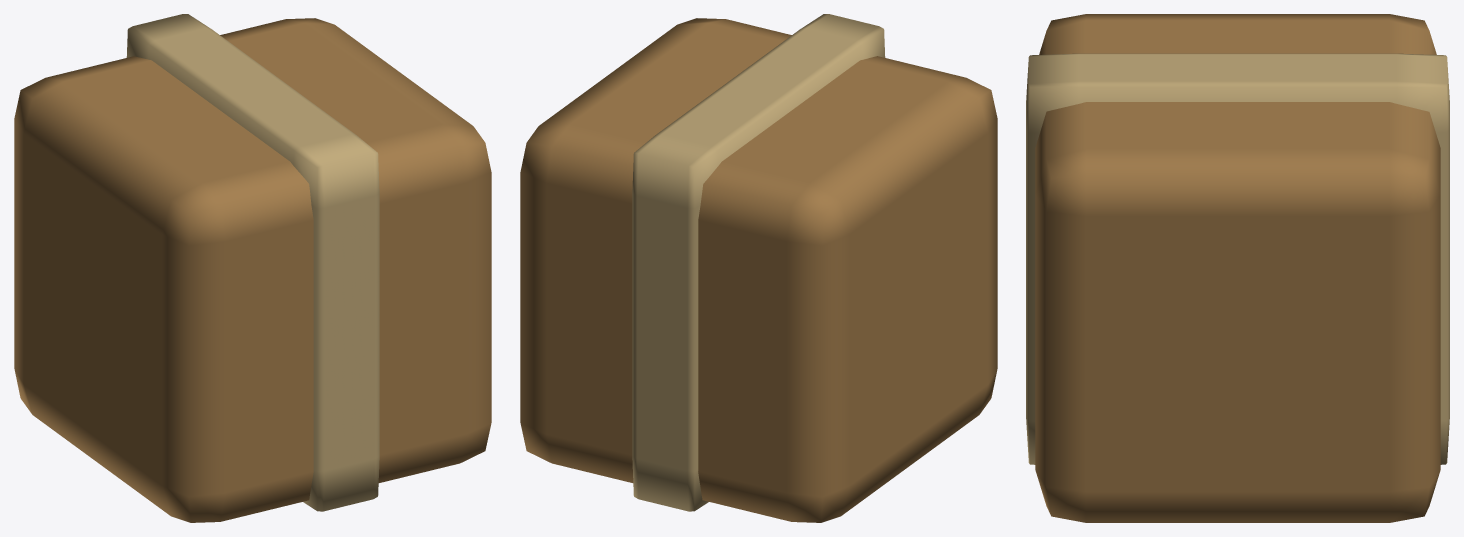
File: parcel.glb
3 views of the same model, side by side, from view 1: azimuth 30°, elevation 25°; view 2: azimuth 150°, elevation 25°; view 3: azimuth 270°, elevation 25° (orthographic). The views are drawn at different scales.
Visible parts, largest first — view 1: box, ribbon; view 2: box, ribbon; view 3: box, ribbon.
Part boxes in pixels (<box>): box: <box>14,18,491,522</box>; ribbon: <box>126,14,379,511</box>; box: <box>520,18,997,522</box>; ribbon: <box>632,14,885,511</box>; box: <box>1035,14,1440,522</box>; ribbon: <box>1026,53,1449,464</box>.
Bounding box in the file's own units: 0.43 × 0.45 × 0.45.
